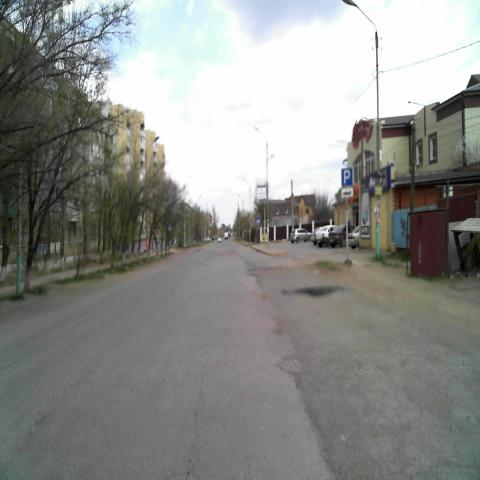8_4_3: (341, 188, 353, 198)
